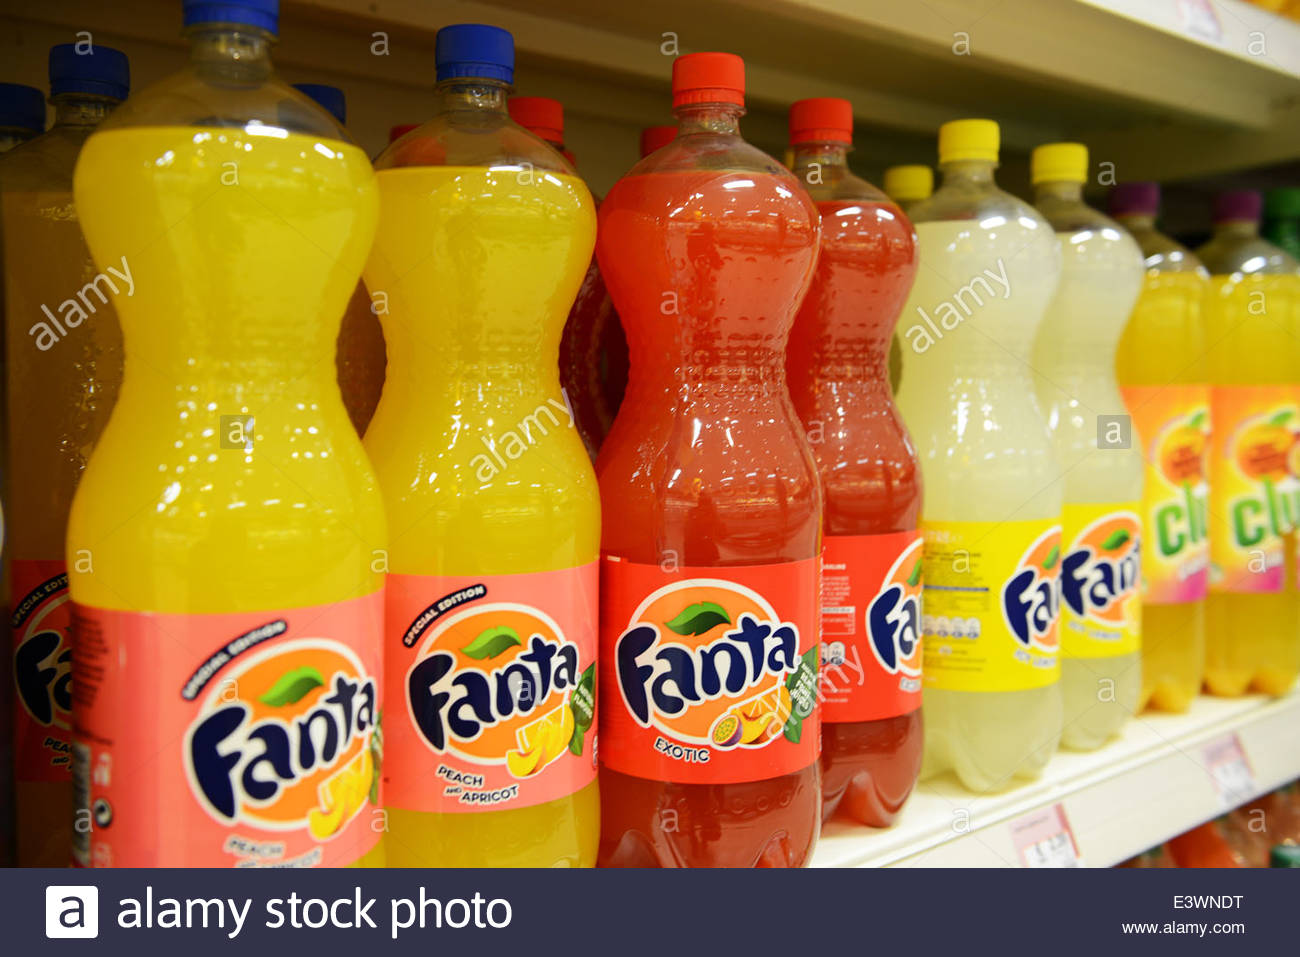Fanta: (597, 86, 826, 879), (817, 75, 917, 848)
